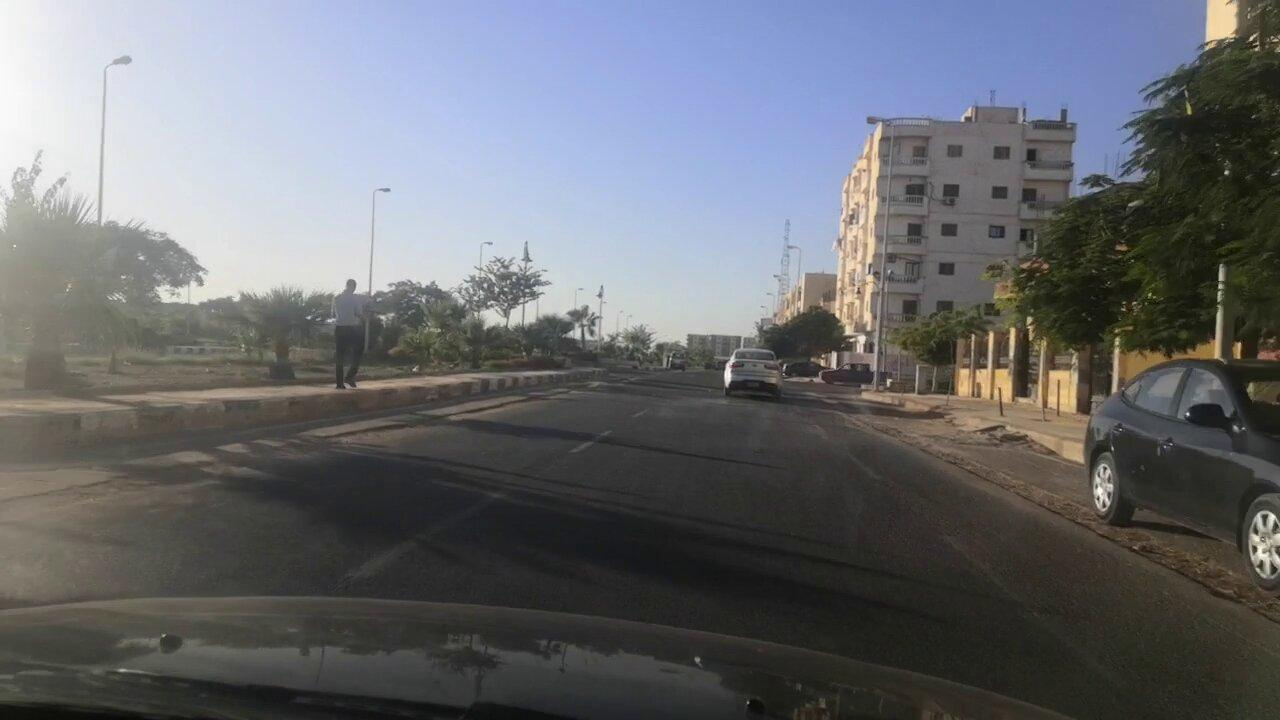Bump: (545, 389, 853, 428)
Pothole: (1, 394, 554, 525)
